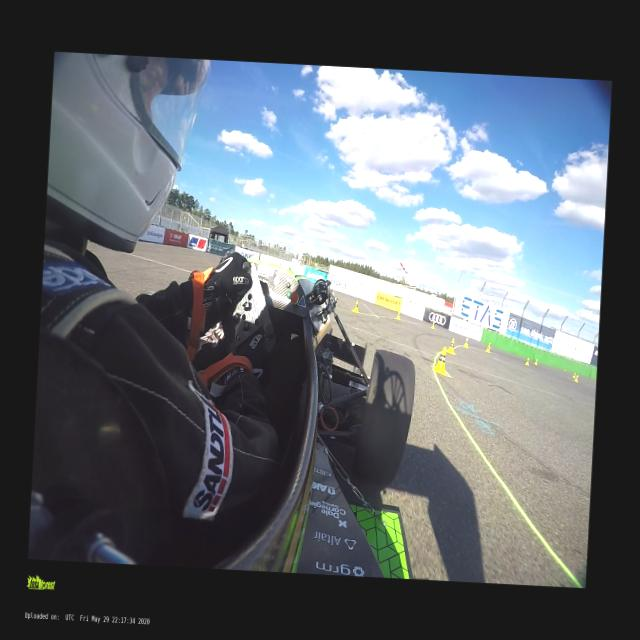yellow_cone: (434, 347, 448, 375), (446, 339, 456, 355), (462, 337, 469, 348), (353, 300, 359, 312), (525, 358, 530, 365), (486, 346, 490, 353), (397, 311, 400, 320), (534, 360, 538, 366), (573, 372, 576, 378), (488, 342, 491, 348), (432, 322, 434, 330), (576, 375, 578, 382)
